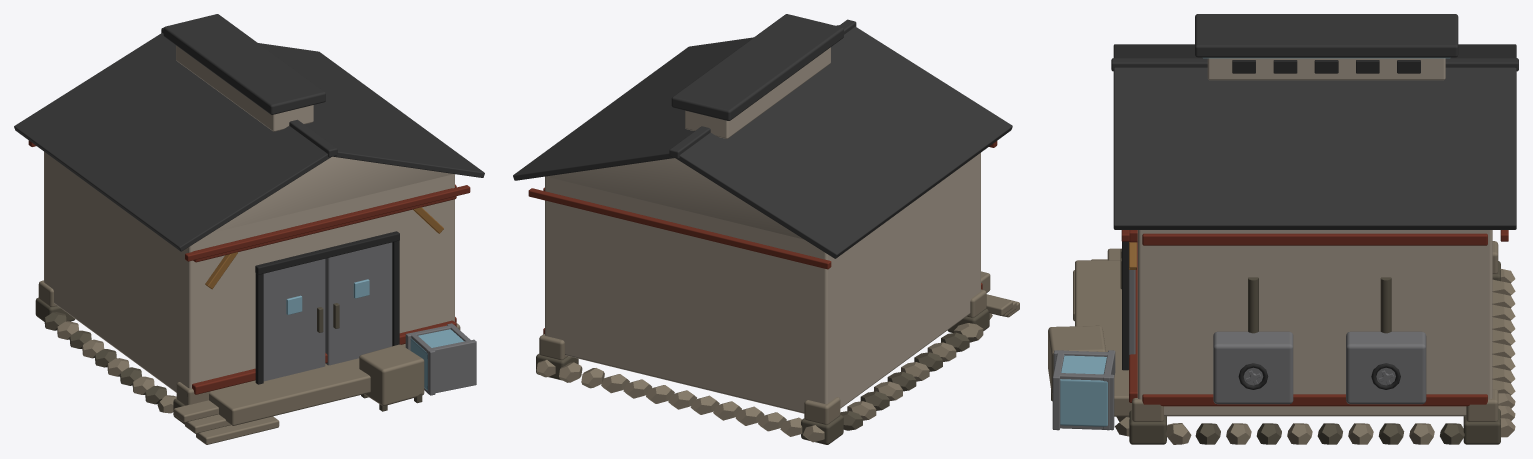
File: refrigerated-warehouse.glb
3 renders of one model, left to right at view 1: azimuth 30°, elevation 25°; view 2: azimuth 150°, elevation 25°; view 3: azimuth 270°, elevation 25°, orthographic. The views are drawn at different scales.
Parts seen in each view (by area): view 1: refrigerated-warehouse-farm-roof-slate, refrigerated-warehouse-farm-plaster, refrigerated-warehouse-farm-metal, refrigerated-warehouse-farm-stone, refrigerated-warehouse-farm-barn-red-dark, refrigerated-warehouse-farm-window, refrigerated-warehouse-farm-stone-dark, refrigerated-warehouse-farm-accent-blue, refrigerated-warehouse-farm-wood-dark; view 2: refrigerated-warehouse-farm-plaster, refrigerated-warehouse-farm-roof-slate, refrigerated-warehouse-farm-stone, refrigerated-warehouse-farm-stone-dark, refrigerated-warehouse-farm-barn-red-dark; view 3: refrigerated-warehouse-farm-roof-slate, refrigerated-warehouse-farm-plaster, refrigerated-warehouse-farm-metal, refrigerated-warehouse-farm-stone, refrigerated-warehouse-farm-barn-red-dark, refrigerated-warehouse-farm-stone-dark, refrigerated-warehouse-farm-accent-blue, refrigerated-warehouse-farm-window.
Boxes of the visible parts, x1,y1,x2,y2 form: refrigerated-warehouse-farm-roof-slate: [14, 14, 484, 251]; refrigerated-warehouse-farm-plaster: [44, 45, 454, 392]; refrigerated-warehouse-farm-metal: [263, 242, 476, 395]; refrigerated-warehouse-farm-stone: [38, 280, 460, 444]; refrigerated-warehouse-farm-barn-red-dark: [28, 140, 470, 394]; refrigerated-warehouse-farm-window: [255, 231, 399, 384]; refrigerated-warehouse-farm-stone-dark: [35, 297, 422, 424]; refrigerated-warehouse-farm-accent-blue: [286, 279, 464, 390]; refrigerated-warehouse-farm-wood-dark: [205, 207, 443, 289]; refrigerated-warehouse-farm-plaster: [545, 47, 980, 413]; refrigerated-warehouse-farm-roof-slate: [513, 14, 1012, 258]; refrigerated-warehouse-farm-stone: [536, 271, 1019, 442]; refrigerated-warehouse-farm-stone-dark: [536, 308, 989, 444]; refrigerated-warehouse-farm-barn-red-dark: [528, 141, 997, 333]; refrigerated-warehouse-farm-roof-slate: [1111, 14, 1518, 229]; refrigerated-warehouse-farm-plaster: [1137, 58, 1492, 416]; refrigerated-warehouse-farm-metal: [1052, 270, 1426, 430]; refrigerated-warehouse-farm-stone: [1048, 241, 1515, 444]; refrigerated-warehouse-farm-barn-red-dark: [1121, 230, 1508, 406]; refrigerated-warehouse-farm-stone-dark: [1051, 248, 1500, 444]; refrigerated-warehouse-farm-accent-blue: [1060, 57, 1450, 426]; refrigerated-warehouse-farm-window: [1122, 60, 1420, 389].
Bounding box in the file's own units: 9.68 × 8.06 × 10.28.
